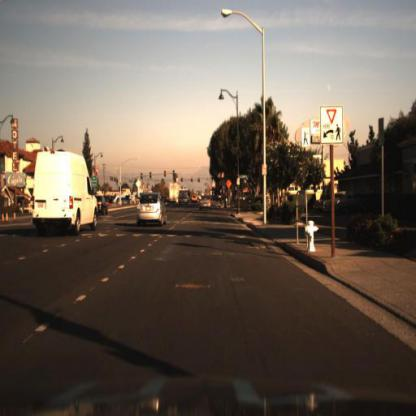car: (31, 152, 100, 237), (323, 187, 361, 218), (136, 195, 167, 229), (198, 192, 216, 215), (310, 193, 333, 210), (178, 190, 192, 212), (187, 193, 198, 213)
truck: (169, 181, 183, 206)
